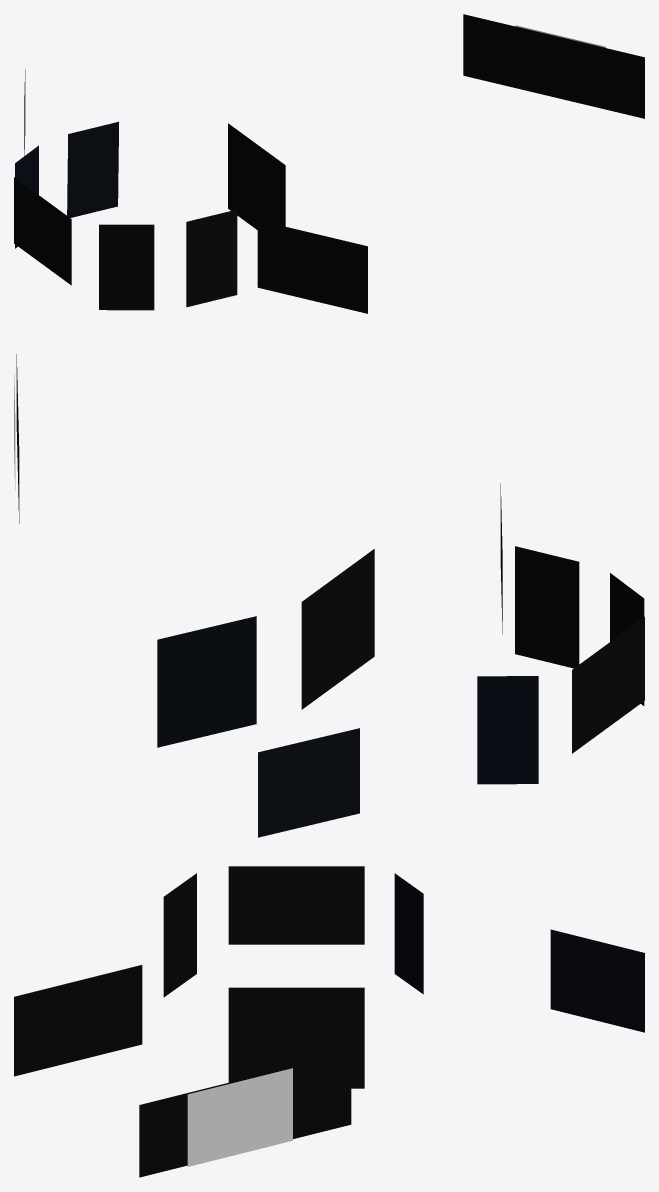
File: tutorial_windows.fbx
3 views of the same model, one above another, from view 1: azimuth 30°, elevation 25°; view 2: azimuth 150°, elevation 25°; view 3: azimuth 270°, elevation 25° (orthographic). The views are drawn at different scales.
Parts seen in each view (by area): view 1: windows; view 2: windows; view 3: windows.
Boxes of the visible parts, box(x1,y1,x2,y2) form: windows: box(14, 14, 644, 313); windows: box(14, 354, 644, 837); windows: box(14, 866, 644, 1177).
Size of the model in its own units: 35.1 by 9.05 by 30.38.
